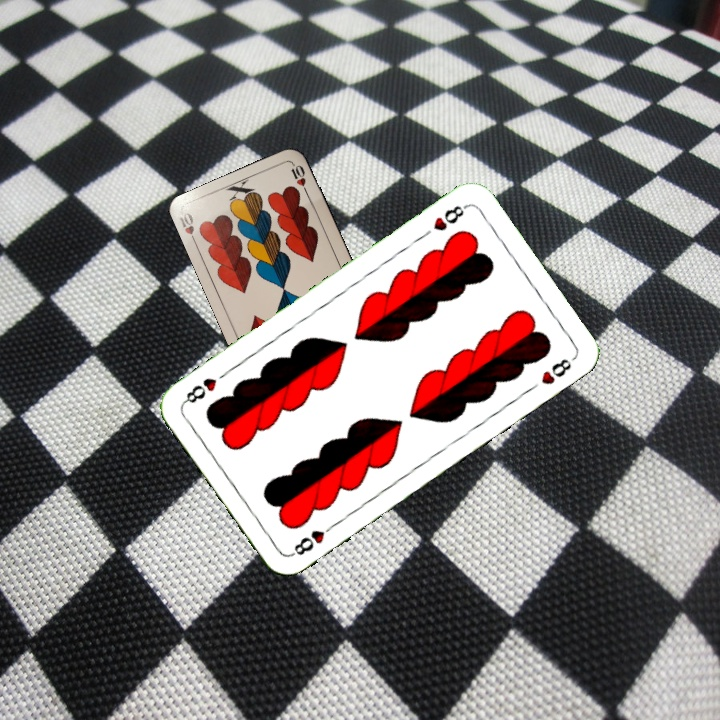H10: (175, 209, 200, 248)
H8: (287, 519, 339, 559), (429, 200, 470, 234)
